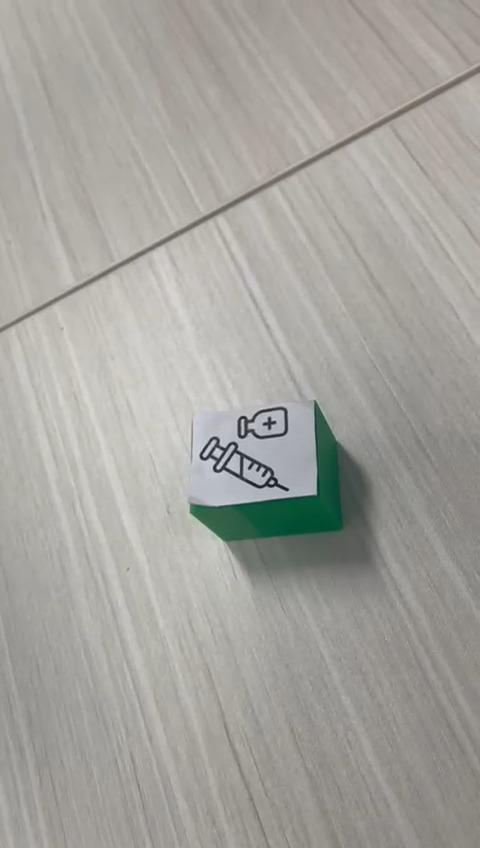antiseptic cream: (185, 397, 343, 542)
